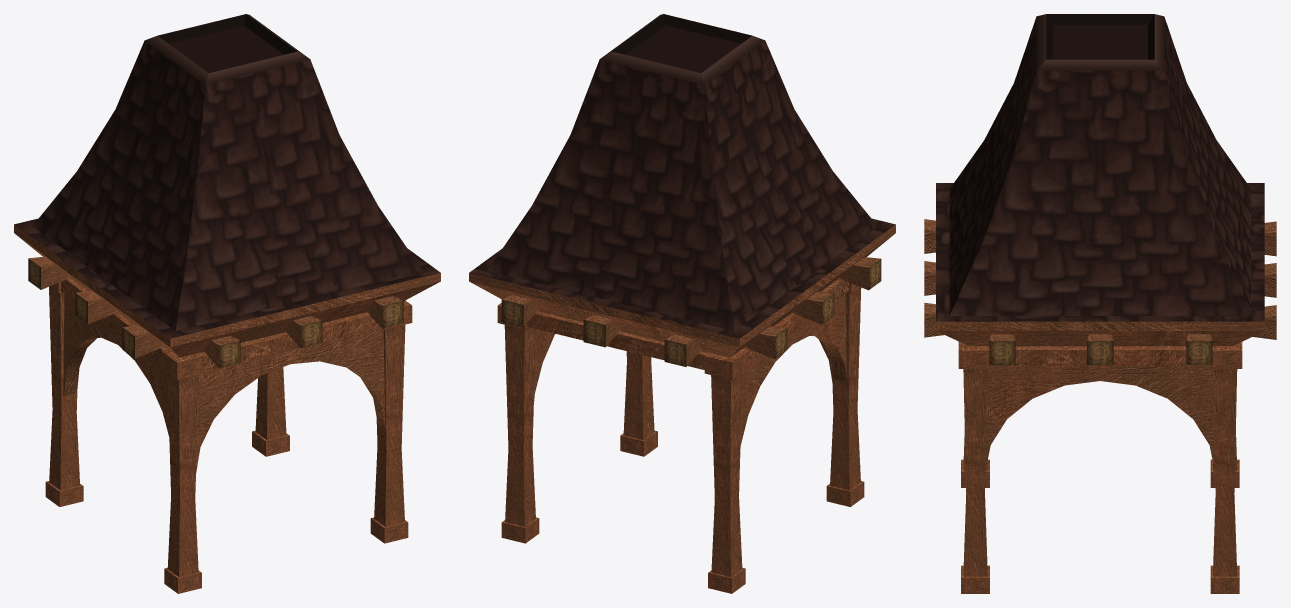
Rendered from fanasty_mod_conjoining_piece_H.fbx.
3 renders of one model, left to right at view 1: azimuth 30°, elevation 25°; view 2: azimuth 150°, elevation 25°; view 3: azimuth 270°, elevation 25°, orthographic. The views are drawn at different scales.
Parts seen in each view (by area): view 1: conjoining_piece_H; view 2: conjoining_piece_H; view 3: conjoining_piece_H.
Boxes of the visible parts, x1,y1,x2,y2 form: conjoining_piece_H: (14, 14, 440, 593); conjoining_piece_H: (469, 14, 895, 593); conjoining_piece_H: (924, 14, 1276, 593).
Size of the model in its own units: 4.58 by 7.12 by 4.56.
